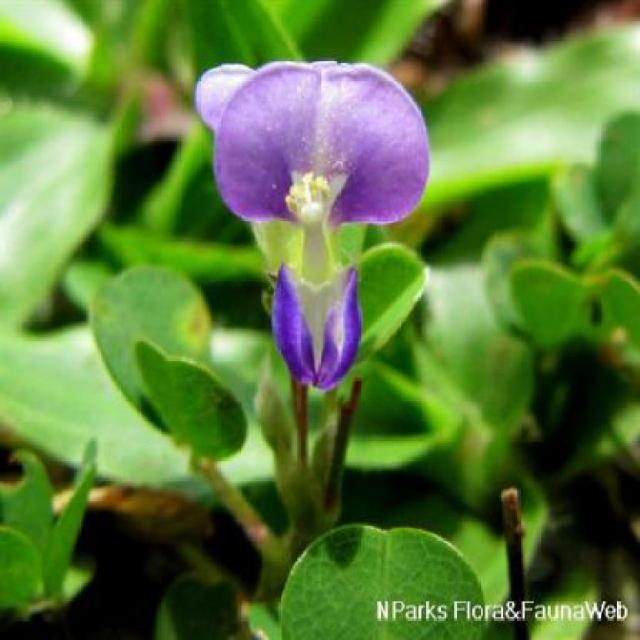flower: (198, 37, 428, 415)
